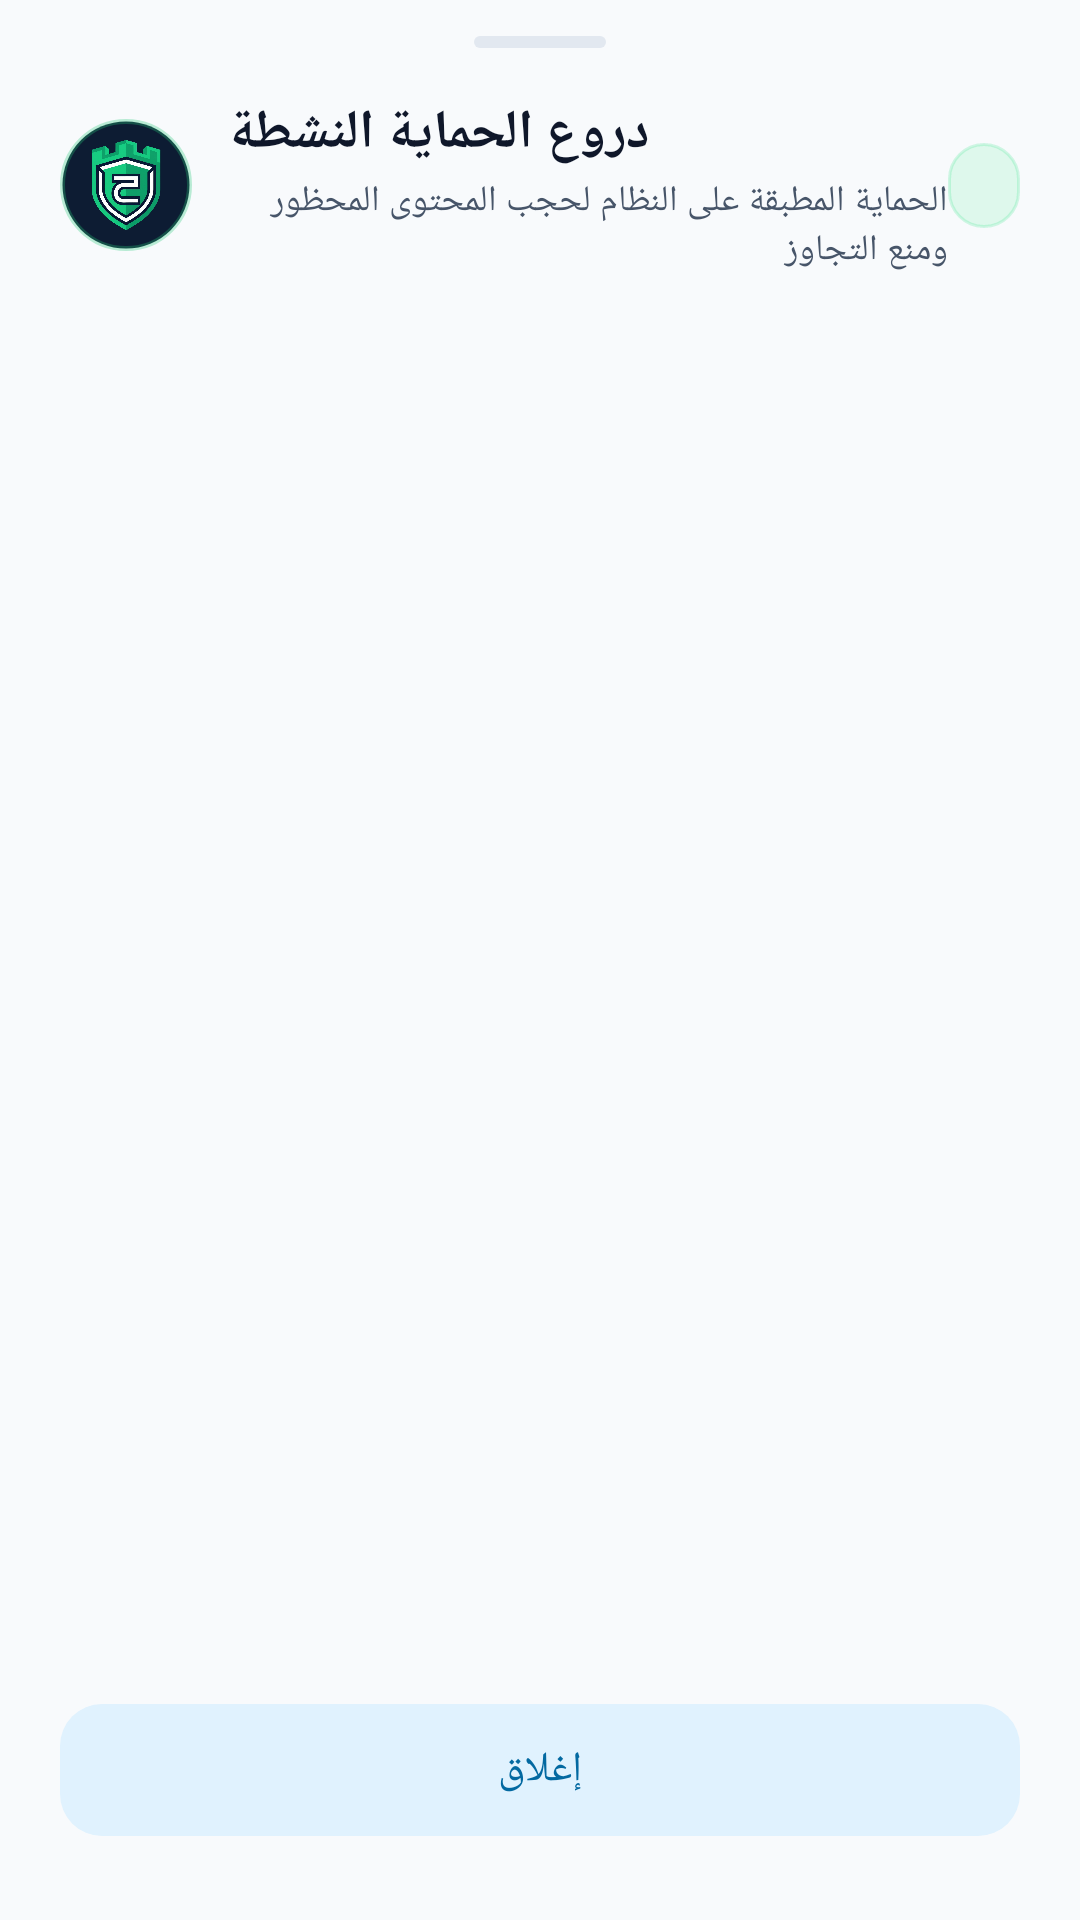

Point at icon controls on the screen. Image size 1080px×1920px, points as point (x, y).
hisn shield emblem: point (126, 185)
